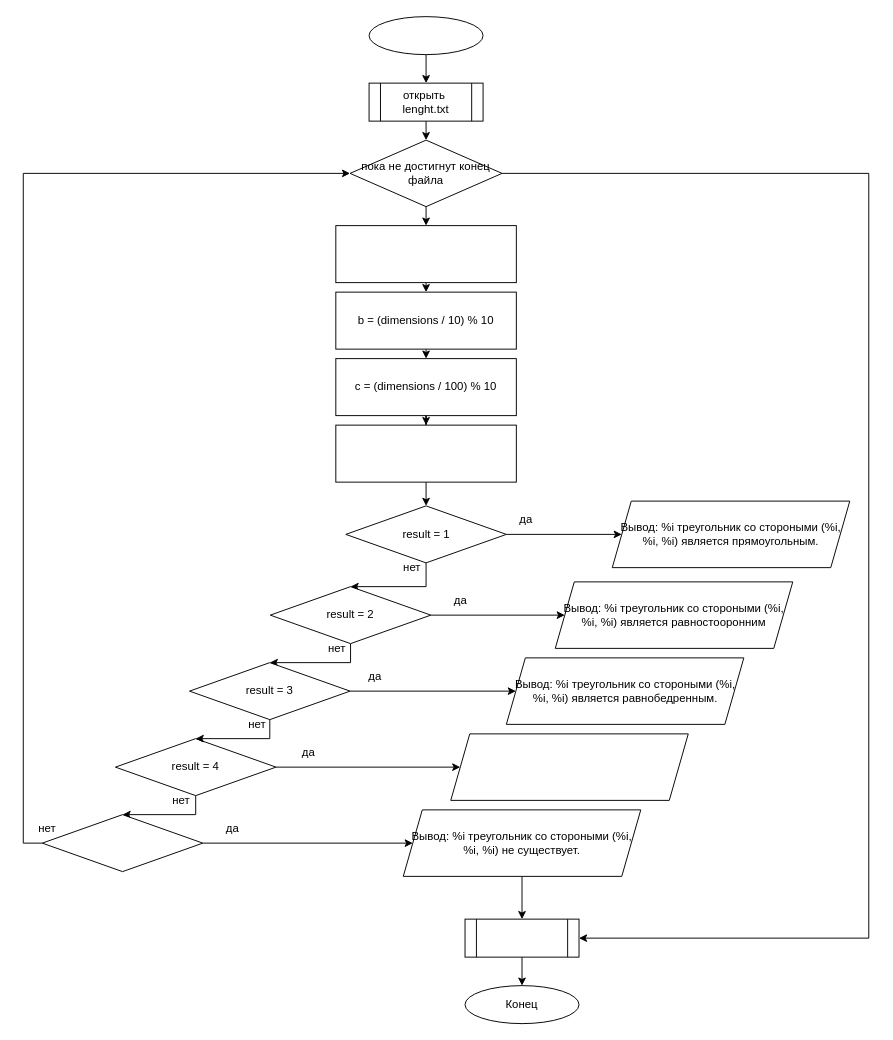
This 893x1040 diagram has some shape labels left out. The shapes that lost their labels are listed below. From the top down, each one's box as (x1, y1, x2, y2) in pixels, then its label:
(368, 16, 483, 55): Начало
(335, 225, 516, 283): a = dimensions % 10
(335, 424, 516, 482): result = 1/2/3/4/5, в зависимости от рез. работы функции type_of_the_triangle
(450, 733, 688, 800): Вывод: %i треугольник со стороными (%i, %i, %i) является разносторонним.
(41, 814, 203, 872): result = 5
(464, 918, 579, 957): закрыть lenght.txt
